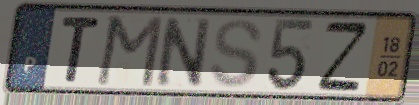5: (264, 16, 317, 94)
M: (93, 14, 167, 90)
N: (154, 14, 213, 90)
S: (207, 17, 266, 91)
T: (59, 13, 104, 85)
Z: (315, 19, 371, 93)
